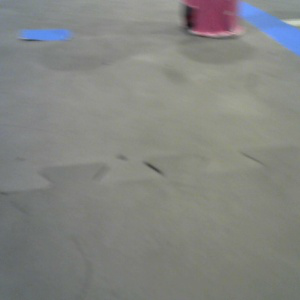right: (182, 1, 245, 38)
